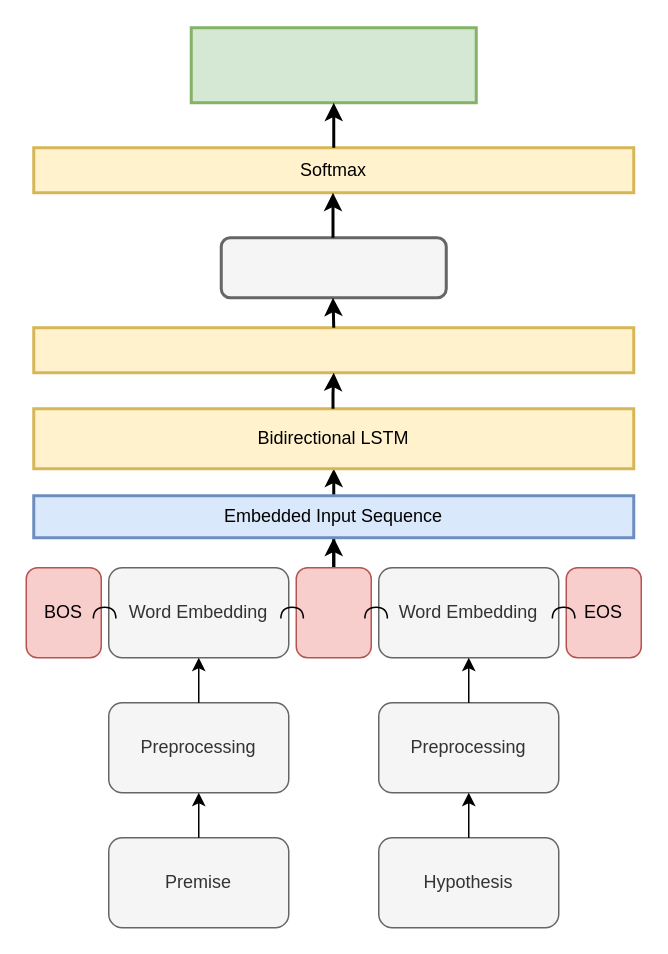
Some shapes in this 668 by 954 pixel diagram are drawn without their labels. Here are the shapes that lost their labels. From the top down, the centre of each, then its label:
the point at 333,65: Predicted Labels (Entailment, Contradiction)
the point at 333,267: Context vector
the point at 333,350: Attention layer
the point at 333,612: SEP
